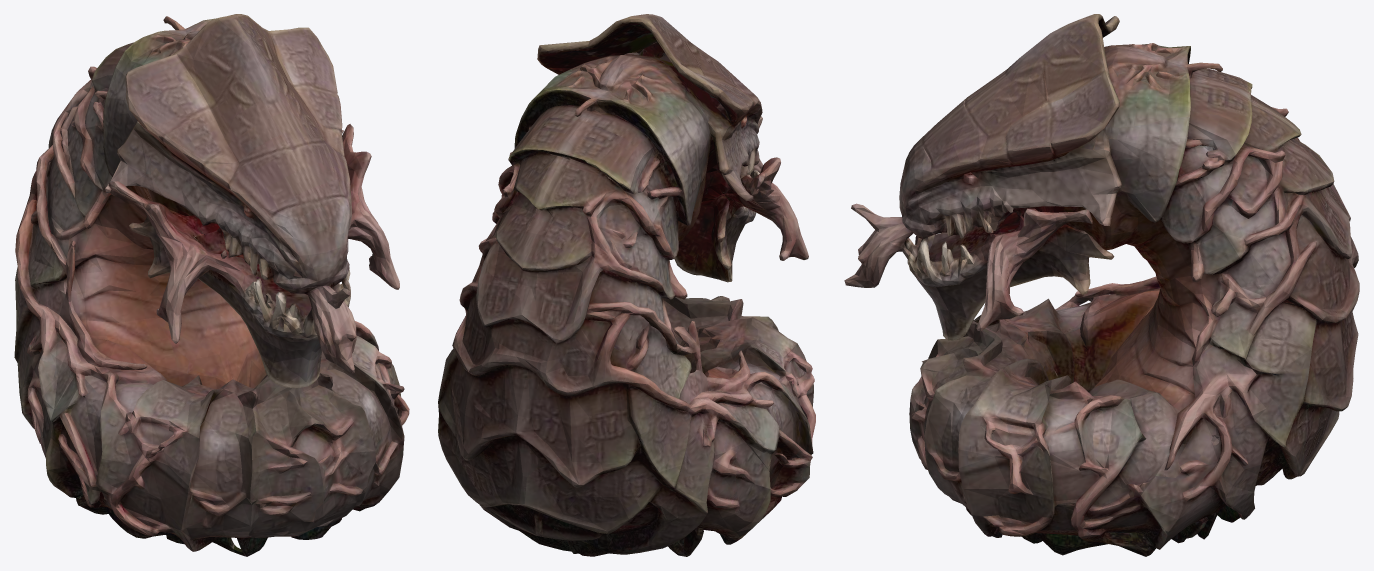
Rendered from rootGnawer.glb.
3 views of the same model, side by side, from view 1: azimuth 30°, elevation 25°; view 2: azimuth 150°, elevation 25°; view 3: azimuth 270°, elevation 25° (orthographic).
Parts seen in each view (by area): view 1: world; view 2: world; view 3: world.
Boxes of the visible parts, x1,y1,x2,y2 form: world: [14, 14, 409, 556]; world: [438, 14, 815, 556]; world: [844, 14, 1359, 556].
Bounding box in the file's own units: 0.6678 × 1 × 0.9469.
1 material, 1 textured.
